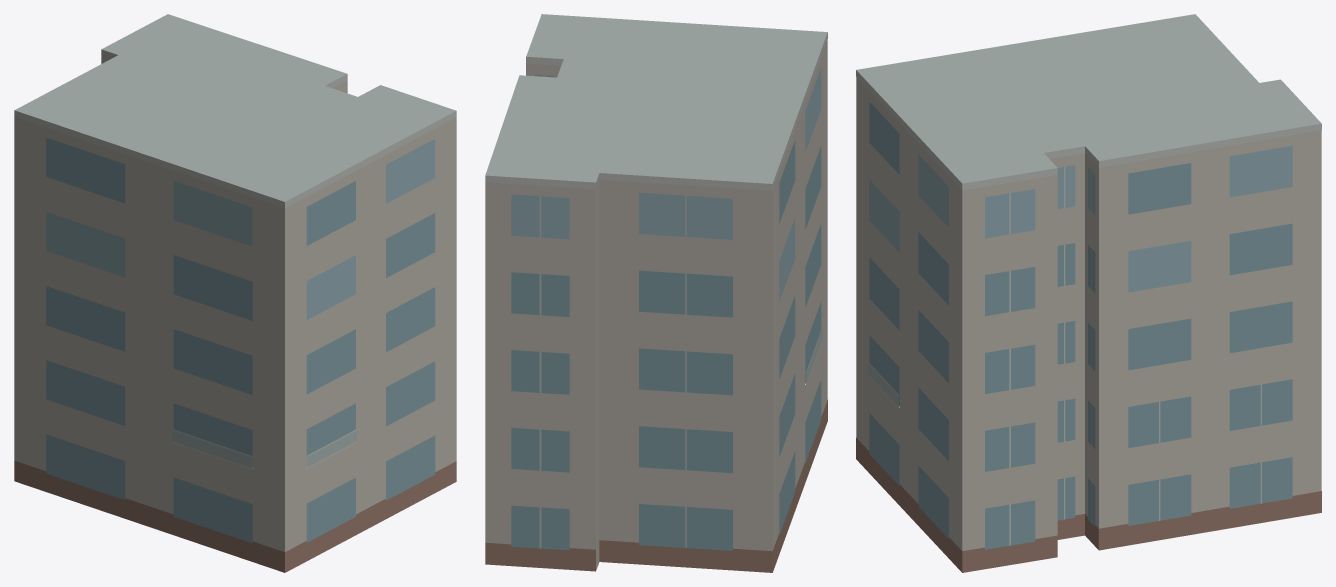
The model's file is survey-upis-32592878.glb.
The picture shows the model from 3 angles, left to right: view 1: azimuth 30°, elevation 25°; view 2: azimuth 150°, elevation 25°; view 3: azimuth 270°, elevation 25°; orthographic projection. The views are drawn at different scales.
Parts seen in each view (by area): view 1: survey-upis-32592878.tmp; view 2: survey-upis-32592878.tmp; view 3: survey-upis-32592878.tmp.
Part boxes in pixels (x1,y1,x2,y2): survey-upis-32592878.tmp: (14, 14, 456, 572); survey-upis-32592878.tmp: (485, 14, 827, 572); survey-upis-32592878.tmp: (856, 14, 1321, 572).
Bounding box in the file's own units: 13.19 × 14.1 × 15.3.
